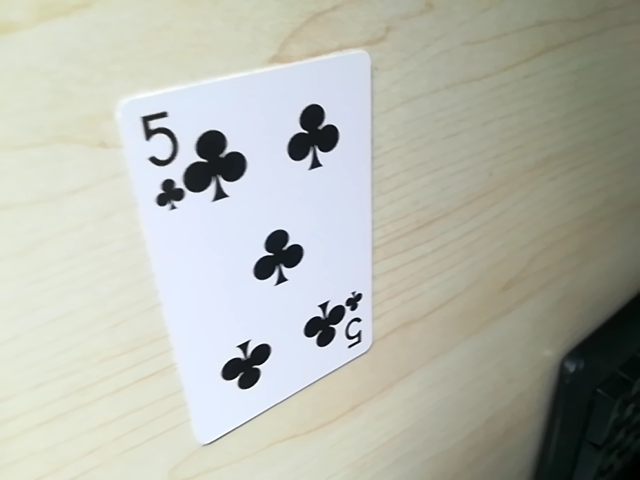mh 5: (134, 99, 191, 217), (321, 292, 369, 356)
